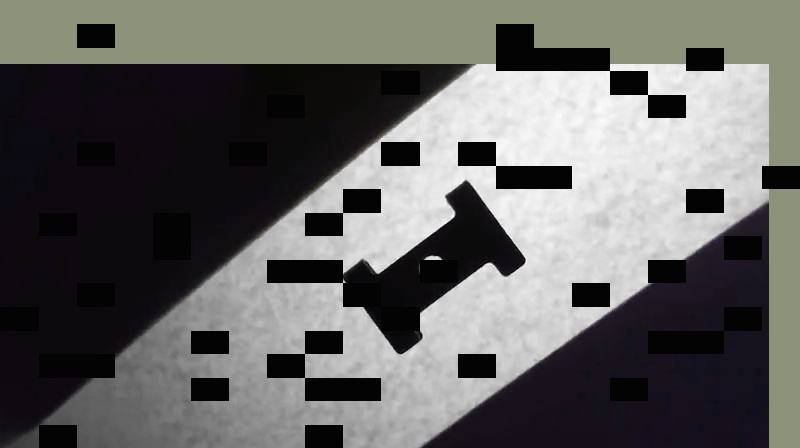O002: (337, 174, 529, 353)
